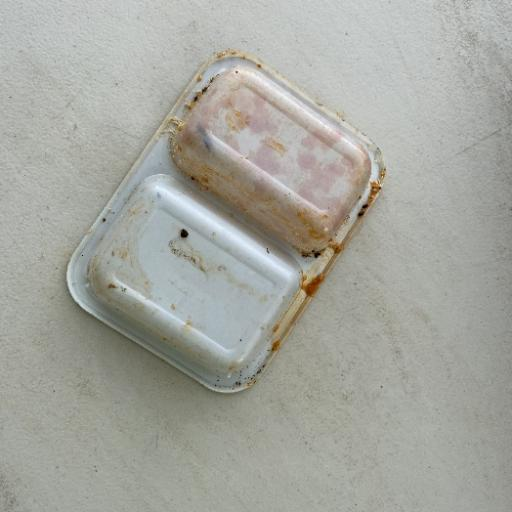Plastic: (64, 48, 388, 396)
